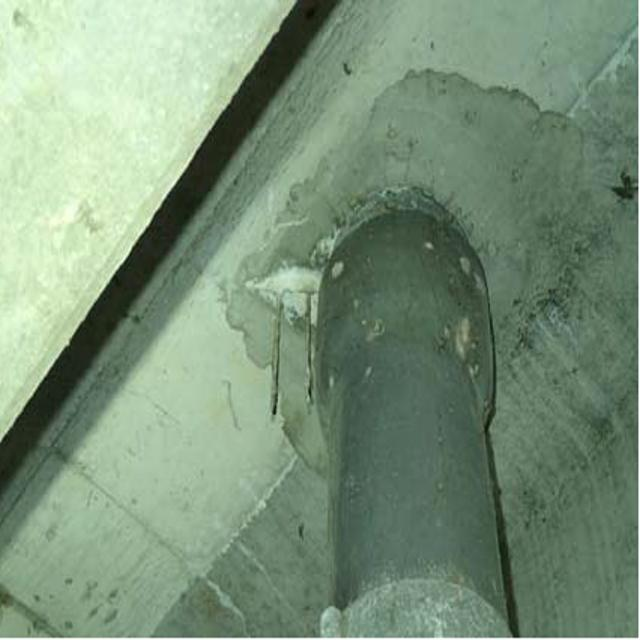freelime: (239, 234, 337, 336)
